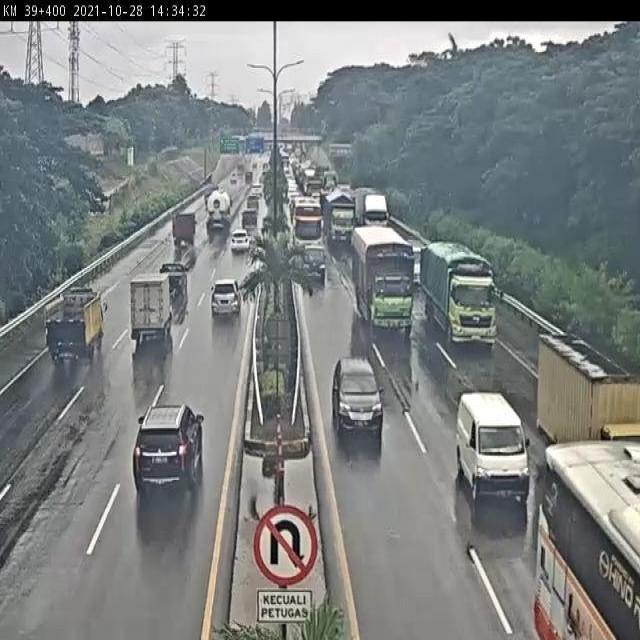big bus: (290, 193, 324, 247)
big truck: (508, 406, 640, 640), (421, 241, 499, 351), (353, 227, 415, 340), (323, 187, 355, 248), (355, 187, 390, 233)
car: (459, 396, 533, 507), (134, 402, 209, 494), (331, 357, 386, 444), (131, 276, 171, 348), (211, 278, 245, 322), (398, 234, 422, 282), (298, 246, 329, 282), (160, 262, 189, 298), (231, 230, 253, 253), (238, 216, 257, 235), (244, 198, 259, 214)
small truck: (523, 329, 640, 454), (43, 283, 111, 367), (204, 189, 233, 236), (173, 213, 200, 252)
